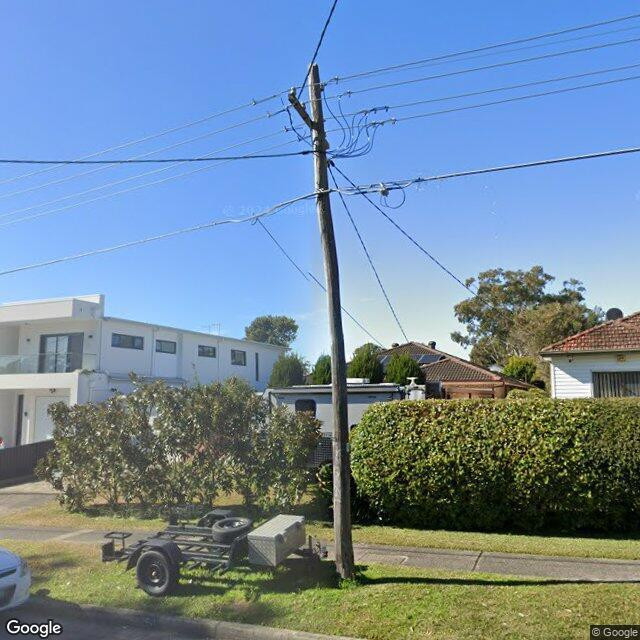crossarm: (286, 91, 332, 150)
timber-pole: (309, 65, 355, 577)
